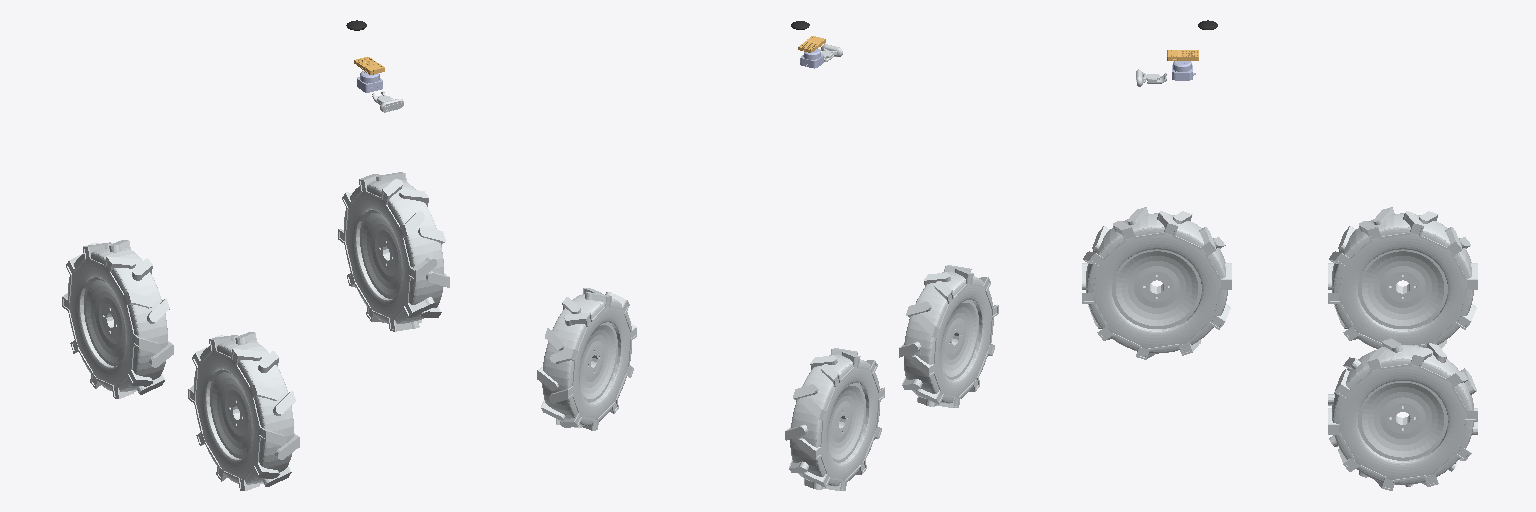
URDF robot description (amr):
<?xml version="1.0" encoding="utf-8"?>
<!-- This URDF was automatically created by SolidWorks to URDF Exporter! Originally created by Stephen Brawner (brawner@gmail.com) 
     Commit Version: 1.6.0-4-g7f85cfe  Build Version: 1.6.7995.38578
     For more information, please see http://wiki.ros.org/sw_urdf_exporter -->
<robot
  name="amr">
  <link
    name="base_link">
    <inertial>
      <origin
        xyz="0.513473157443824 -1.04411480017909 0.490973712698276"
        rpy="0 0 0" />
      <mass
        value="111.33143539967" />
      <inertia
        ixx="11.7257420736596"
        ixy="-0.224302682720393"
        ixz="-0.0163386635858304"
        iyy="10.3161728169077"
        iyz="-1.34014463461158"
        izz="13.627596749161" />
    </inertial>
    <visual>
      <origin
        xyz="0 0 0"
        rpy="0 0 0" />
      <geometry>
        <mesh
          filename="package://amr_description/meshes/base_link.STL" />
      </geometry>
      <material
        name="">
        <color
          rgba="0.529411764705882 0.549019607843137 0.549019607843137 1" />
      </material>
    </visual>
    <collision>
      <origin
        xyz="0 0 0"
        rpy="0 0 0" />
      <geometry>
        <mesh
          filename="package://amr_description/meshes/base_link.STL" />
      </geometry>
    </collision>
  </link>
  <link
    name="front_left_Link">
    <inertial>
      <origin
        xyz="6.29806547958189E-06 1.26989900310348E-05 0.0469790175218138"
        rpy="0 0 0" />
      <mass
        value="9.10596909419496" />
      <inertia
        ixx="0.102808798739543"
        ixy="2.61439637008449E-06"
        ixz="-1.30238873157848E-08"
        iyy="0.102808580725155"
        iyz="-8.5780649850196E-06"
        izz="0.194512956774539" />
    </inertial>
    <visual>
      <origin
        xyz="0 0 0"
        rpy="0 0 0" />
      <geometry>
        <mesh
          filename="package://amr_description/meshes/front_left_Link.STL" />
      </geometry>
      <material
        name="">
        <color
          rgba="0.898039215686275 0.917647058823529 0.929411764705882 1" />
      </material>
    </visual>
    <collision>
      <origin
        xyz="0 0 0"
        rpy="0 0 0" />
      <geometry>
        <mesh
          filename="package://amr_description/meshes/front_left_Link.STL" />
      </geometry>
    </collision>
  </link>
  <joint
    name="front_left_joint"
    type="fixed">
    <origin
      xyz="0.98744 -1.2545 0.38116"
      rpy="1.5708 0 -1.5708" />
    <parent
      link="base_link" />
    <child
      link="front_left_Link" />
    <axis
      xyz="0 0 1" />
  </joint>
  <link
    name="front_right_Link">
    <inertial>
      <origin
        xyz="-6.29802913132416E-06 6.93427947001668E-06 -0.0469768887419214"
        rpy="0 0 0" />
      <mass
        value="9.10537880454277" />
      <inertia
        ixx="0.102802010228658"
        ixy="-2.61434784238459E-06"
        ixz="-1.30469702876296E-08"
        iyy="0.102801791115996"
        iyz="6.74603344145962E-06"
        izz="0.194500699265567" />
    </inertial>
    <visual>
      <origin
        xyz="0 0 0"
        rpy="0 0 0" />
      <geometry>
        <mesh
          filename="package://amr_description/meshes/front_right_Link.STL" />
      </geometry>
      <material
        name="">
        <color
          rgba="0.898039215686275 0.917647058823529 0.929411764705882 1" />
      </material>
    </visual>
    <collision>
      <origin
        xyz="0 0 0"
        rpy="0 0 0" />
      <geometry>
        <mesh
          filename="package://amr_description/meshes/front_right_Link.STL" />
      </geometry>
    </collision>
  </link>
  <joint
    name="front_right_joint"
    type="fixed">
    <origin
      xyz="0.067589 -1.2545 0.38116"
      rpy="1.5708 0 -1.5708" />
    <parent
      link="base_link" />
    <child
      link="front_right_Link" />
    <axis
      xyz="0 0 1" />
  </joint>
  <link
    name="rear_left_Link">
    <inertial>
      <origin
        xyz="6.29807708352192E-06 7.05238520765095E-06 0.0469768502239475"
        rpy="0 0 0" />
      <mass
        value="9.10536681371703" />
      <inertia
        ixx="0.102801871949084"
        ixy="2.61439037980873E-06"
        ixz="-1.30282666621313E-08"
        iyy="0.102801652864166"
        iyz="-6.77898283723768E-06"
        izz="0.194500449518344" />
    </inertial>
    <visual>
      <origin
        xyz="0 0 0"
        rpy="0 0 0" />
      <geometry>
        <mesh
          filename="package://amr_description/meshes/rear_left_Link.STL" />
      </geometry>
      <material
        name="">
        <color
          rgba="0.898039215686275 0.917647058823529 0.929411764705882 1" />
      </material>
    </visual>
    <collision>
      <origin
        xyz="0 0 0"
        rpy="0 0 0" />
      <geometry>
        <mesh
          filename="package://amr_description/meshes/rear_left_Link.STL" />
      </geometry>
    </collision>
  </link>
  <joint
    name="rear_left_joint"
    type="fixed">
    <origin
      xyz="0.98744 -0.60082 0.38116"
      rpy="1.5708 0 -1.5708" />
    <parent
      link="base_link" />
    <child
      link="rear_left_Link" />
    <axis
      xyz="0 0 1" />
  </joint>
  <link
    name="rear_right_Link">
    <inertial>
      <origin
        xyz="-6.29806920571241E-06 1.39867302306751E-06 -0.0469789196417592"
        rpy="0 0 0" />
      <mass
        value="9.1059467489595" />
      <inertia
        ixx="0.102808491643662"
        ixy="-2.61438938555222E-06"
        ixz="-1.30309350238823E-08"
        iyy="0.102808272080315"
        iyz="5.00753476938784E-06"
        izz="0.194512390944319" />
    </inertial>
    <visual>
      <origin
        xyz="0 0 0"
        rpy="0 0 0" />
      <geometry>
        <mesh
          filename="package://amr_description/meshes/rear_right_Link.STL" />
      </geometry>
      <material
        name="">
        <color
          rgba="0.898039215686275 0.917647058823529 0.929411764705882 1" />
      </material>
    </visual>
    <collision>
      <origin
        xyz="0 0 0"
        rpy="0 0 0" />
      <geometry>
        <mesh
          filename="package://amr_description/meshes/rear_right_Link.STL" />
      </geometry>
    </collision>
  </link>
  <joint
    name="rear_right_joint"
    type="fixed">
    <origin
      xyz="0.067589 -0.60083 0.38116"
      rpy="1.5708 0 -1.5708" />
    <parent
      link="base_link" />
    <child
      link="rear_right_Link" />
    <axis
      xyz="0 0 1" />
  </joint>
  <link
    name="lidar_link">
    <inertial>
      <origin
        xyz="-0.000656328222520264 -4.6297980470511E-06 -0.0228383623751203"
        rpy="0 0 0" />
      <mass
        value="0.102513122832863" />
      <inertia
        ixx="3.50509902213571E-05"
        ixy="-8.61543944177731E-11"
        ixz="-1.05221565532659E-07"
        iyy="3.53118131962971E-05"
        iyz="1.32882888057512E-11"
        izz="4.34973420605747E-05" />
    </inertial>
    <visual>
      <origin
        xyz="0 0 0"
        rpy="0 0 0" />
      <geometry>
        <mesh
          filename="package://amr_description/meshes/lidar_link.STL" />
      </geometry>
      <material
        name="">
        <color
          rgba="0.792156862745098 0.819607843137255 0.933333333333333 1" />
      </material>
    </visual>
    <collision>
      <origin
        xyz="0 0 0"
        rpy="0 0 0" />
      <geometry>
        <mesh
          filename="package://amr_description/meshes/lidar_link.STL" />
      </geometry>
    </collision>
  </link>
  <joint
    name="lidar_joint"
    type="fixed">
    <origin
      xyz="0.52997 -1.1875 1.2241"
      rpy="0 0 -1.5708" />
    <parent
      link="base_link" />
    <child
      link="lidar_link" />
    <axis
      xyz="0 0 0" />
  </joint>
  <link
    name="laser">
  </link>
  <joint
    name="laser_alias_joint"
    type="fixed">
    <origin
      xyz="0 0 0"
      rpy="0 0 3.141592653589793" />
    <parent
      link="lidar_link" />
    <child
      link="laser" />
  </joint>
  <link
    name="laser_frame">
  </link>
  <joint
    name="laser_frame_alias_joint"
    type="fixed">
    <origin
      xyz="0 0 0"
      rpy="0 0 3.141592653589793" />
    <parent
      link="lidar_link" />
    <child
      link="laser_frame" />
  </joint>
  <link
    name="gps_link">
    <inertial>
      <origin
        xyz="-1.58862080601452E-05 -2.11689653317748E-06 -0.00729694980107243"
        rpy="0 0 0" />
      <mass
        value="0.0353021449300339" />
      <inertia
        ixx="5.69787206623412E-06"
        ixy="1.39262208226644E-09"
        ixz="-2.03249690362271E-09"
        iyy="5.68760659367031E-06"
        iyz="-2.71015461822677E-10"
        izz="1.07308389376905E-05" />
    </inertial>
    <visual>
      <origin
        xyz="0 0 0"
        rpy="0 0 0" />
      <geometry>
        <mesh
          filename="package://amr_description/meshes/gps_link.STL" />
      </geometry>
      <material
        name="">
        <color
          rgba="0.250980392156863 0.250980392156863 0.250980392156863 1" />
      </material>
    </visual>
    <collision>
      <origin
        xyz="0 0 0"
        rpy="0 0 0" />
      <geometry>
        <mesh
          filename="package://amr_description/meshes/gps_link.STL" />
      </geometry>
    </collision>
  </link>
  <joint
    name="gps_joint"
    type="fixed">
    <origin
      xyz="0.52996 -1.1189 1.3402"
      rpy="0 0 -1.5708" />
    <parent
      link="base_link" />
    <child
      link="gps_link" />
    <axis
      xyz="0 0 0" />
  </joint>
  <link
    name="camera_link">
    <inertial>
      <origin
        xyz="-0.0233429526839379 0.019429053006551 0.000207992680228752"
        rpy="0 0 0" />
      <mass
        value="0.048344183886946" />
      <inertia
        ixx="1.23874865633182E-05"
        ixy="1.18459466749714E-09"
        ixz="6.8909221473793E-08"
        iyy="5.89637575596035E-06"
        iyz="-3.74296872552155E-10"
        izz="1.50481974329103E-05" />
    </inertial>
    <visual>
      <origin
        xyz="0 0 0"
        rpy="0 0 0" />
      <geometry>
        <mesh
          filename="package://amr_description/meshes/camera_link.STL" />
      </geometry>
      <material
        name="">
        <color
          rgba="0.898039215686275 0.917647058823529 0.929411764705882 1" />
      </material>
    </visual>
    <collision>
      <origin
        xyz="0 0 0"
        rpy="0 0 0" />
      <geometry>
        <mesh
          filename="package://amr_description/meshes/camera_link.STL" />
      </geometry>
    </collision>
  </link>
  <joint
    name="camera_joint"
    type="fixed">
    <origin
      xyz="0.51056 -1.3068 1.176"
      rpy="0 0 -1.5708" />
    <parent
      link="base_link" />
    <child
      link="camera_link" />
    <axis
      xyz="0 0 0" />
  </joint>
  <link
    name="pixhawk_link">
    <inertial>
      <origin
        xyz="-0.0267134417849426 -0.000184817678566818 -0.00696316174768508"
        rpy="0 0 0" />
      <mass
        value="0.0212907760631397" />
      <inertia
        ixx="3.6596486967437E-06"
        ixy="-2.24028748716441E-08"
        ixz="-1.34252827190325E-07"
        iyy="1.22882118690945E-05"
        iyz="-3.90713304776418E-09"
        izz="1.58628366099003E-05" />
    </inertial>
    <visual>
      <origin
        xyz="0 0 0"
        rpy="0 0 0" />
      <geometry>
        <mesh
          filename="package://amr_description/meshes/pixhawk_link.STL" />
      </geometry>
      <material
        name="">
        <color
          rgba="1 0.807843137254902 0.501960784313725 1" />
      </material>
    </visual>
    <collision>
      <origin
        xyz="0 0 0"
        rpy="0 0 0" />
      <geometry>
        <mesh
          filename="package://amr_description/meshes/pixhawk_link.STL" />
      </geometry>
    </collision>
  </link>
  <joint
    name="pixhawk_joint"
    type="fixed">
    <origin
      xyz="0.529962450603421 -1.21252590097309 1.2501594723365"
      rpy="0 0 -1.5707963267949" />
    <parent
      link="base_link" />
    <child
      link="pixhawk_link" />
    <axis
      xyz="0 0 0" />
  </joint>
</robot>

--- Facts derived from the render (not from the file) ---
3 views of the same robot in one strip: view 1: azimuth 30°, elevation 25°; view 2: azimuth 150°, elevation 25°; view 3: azimuth 270°, elevation 25° (orthographic).
Model amr with 11 links and 10 joints (10 fixed), rooted at base_link, posed all joints at 0.
Visible links, largest first — view 1: rear_left_Link, rear_right_Link, front_right_Link; view 2: rear_right_Link, front_right_Link, rear_left_Link; view 3: rear_left_Link, front_right_Link, rear_right_Link.
Link boxes in pixels (x1,y1,x2,y2): rear_left_Link: (338, 172, 449, 331); rear_right_Link: (62, 240, 173, 398); front_right_Link: (188, 332, 299, 490); rear_right_Link: (785, 348, 884, 490); front_right_Link: (899, 265, 998, 407); rear_left_Link: (537, 288, 636, 430); rear_left_Link: (1328, 338, 1477, 490); front_right_Link: (1082, 207, 1231, 359); rear_right_Link: (1328, 207, 1477, 348).
Bounding box of the posed robot: 0.928 × 1.05 × 1.17 m (x, y, z).
7 mesh visuals loaded from 9 distinct referenced files (7 binary STL); not drawn: 2 (reference not matched to a file when rendering).
